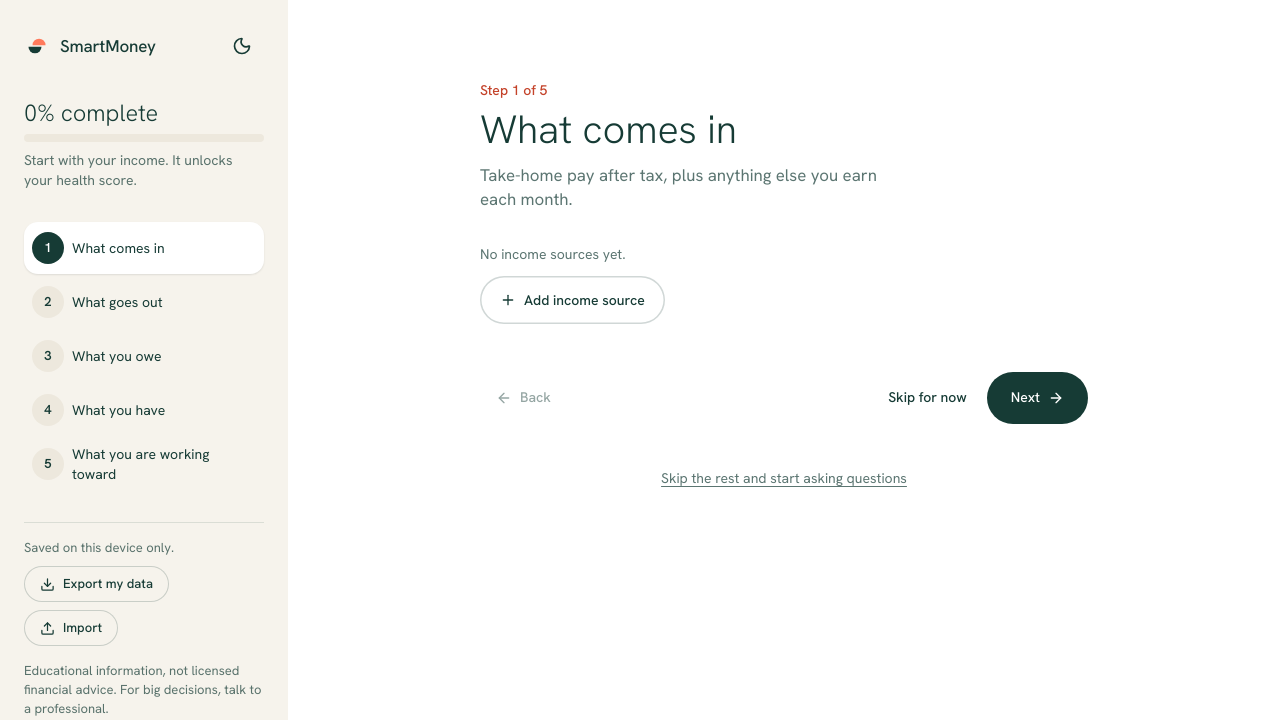
Test: sheets › offer a way to add figures when there is no score yet
Click the button "Skip the rest and start asking questions" at (784, 478), box [661,456,907,500]
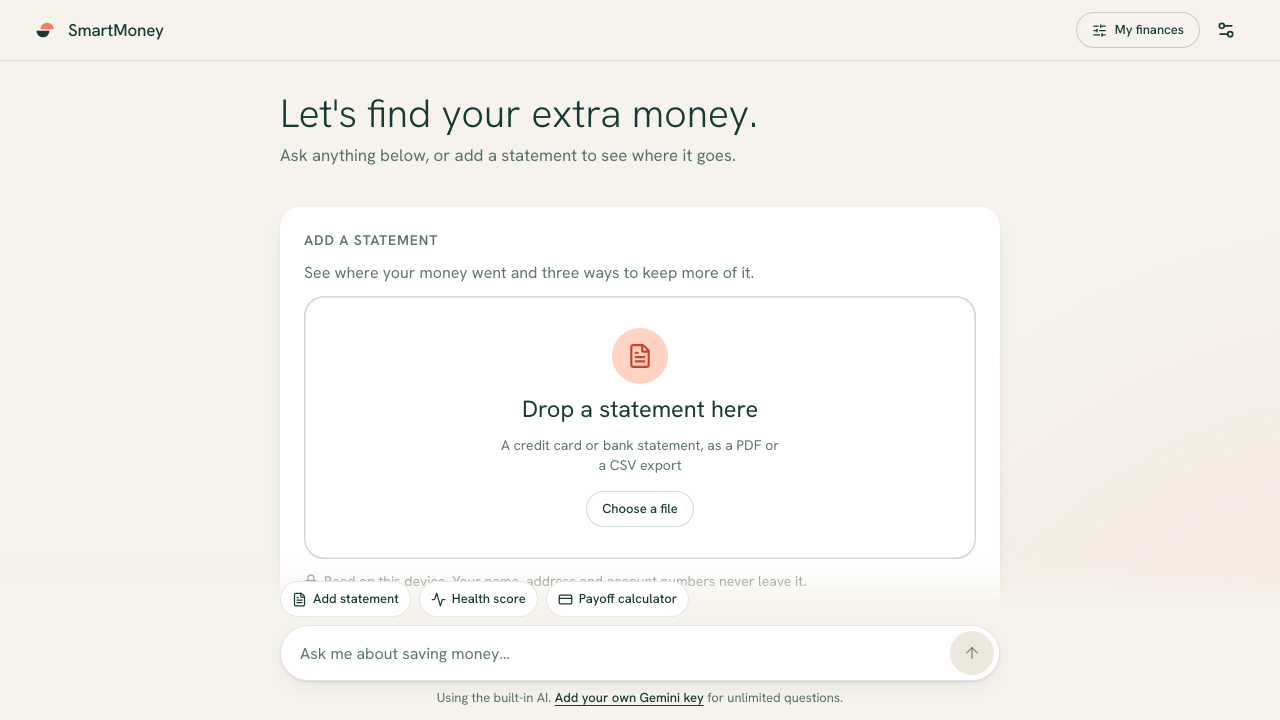
Click the button with aria-label "Financial Health Score" at (478, 599), box [419,581,538,617]
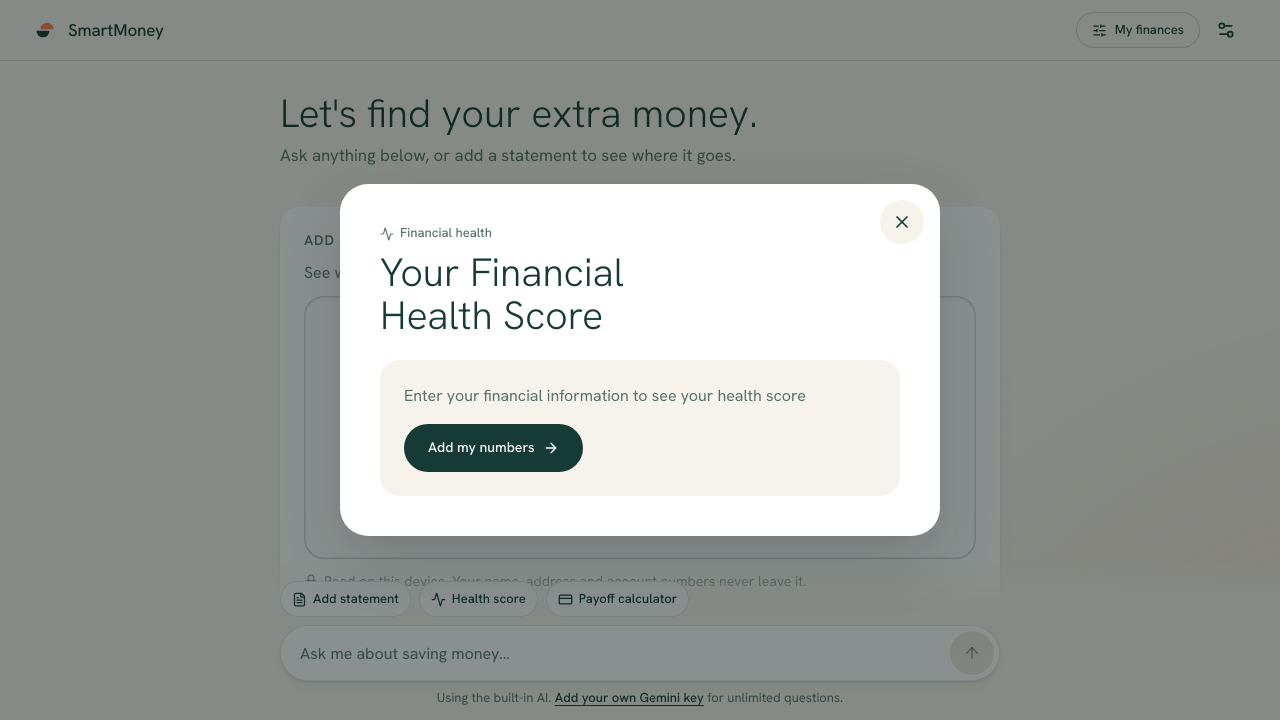
Click the button "Add my numbers" at (493, 448), box [404,424,583,472]
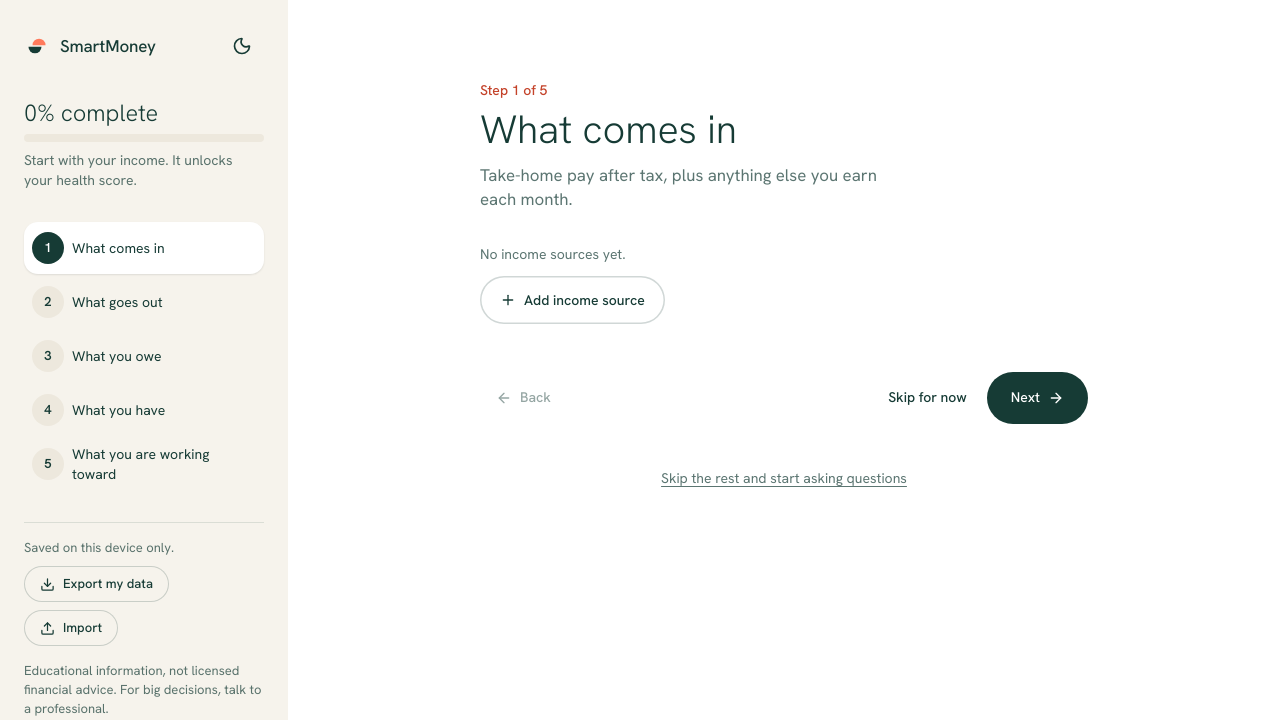
Result: the dialog is gone
Result: the text "0% complete" is shown at [24,97,158,128]
